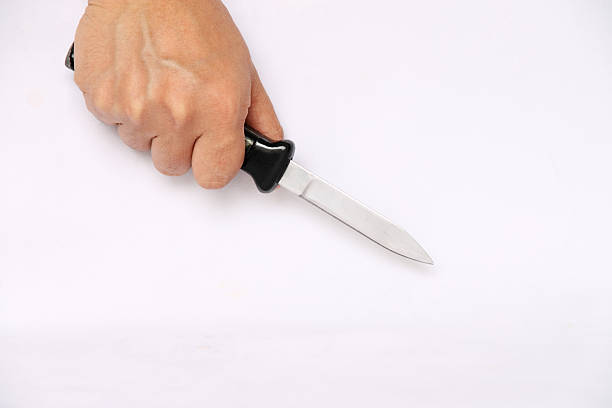knife: (64, 39, 437, 265)
